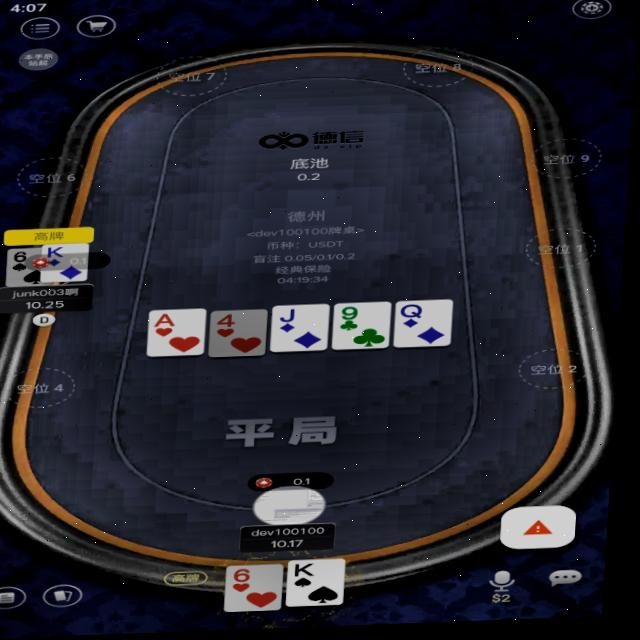4h: (218, 314, 243, 329)
6h: (239, 570, 261, 586)
6s: (16, 250, 31, 264)
9m: (342, 306, 365, 324)
Ah: (157, 313, 181, 329)
Jf: (281, 309, 306, 326)
Kf: (48, 245, 69, 259)
Ks: (299, 564, 322, 581)
Qf: (404, 305, 430, 323)
